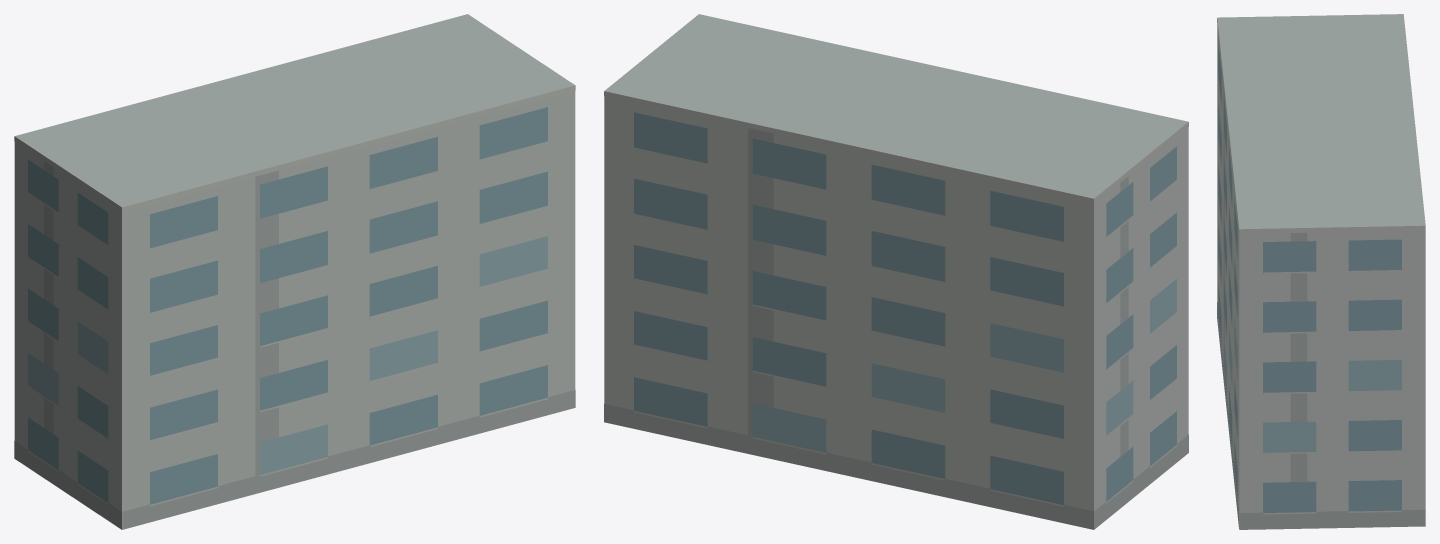
Rendered from residential-45cf6fe2-9da7-4da1-b6b3-7d7fd6285a9c.glb.
3 views of the same model, side by side, from view 1: azimuth 30°, elevation 25°; view 2: azimuth 150°, elevation 25°; view 3: azimuth 270°, elevation 25° (orthographic). The views are drawn at different scales.
Visible parts, largest first — view 1: residential-45cf6fe2-9da7-4da1-b6b3-7d7fd6285a9c.tmp; view 2: residential-45cf6fe2-9da7-4da1-b6b3-7d7fd6285a9c.tmp; view 3: residential-45cf6fe2-9da7-4da1-b6b3-7d7fd6285a9c.tmp.
Boxes of the visible parts, left/top/right/bottom form: residential-45cf6fe2-9da7-4da1-b6b3-7d7fd6285a9c.tmp: left=14, top=14, right=575, bottom=529; residential-45cf6fe2-9da7-4da1-b6b3-7d7fd6285a9c.tmp: left=604, top=14, right=1188, bottom=529; residential-45cf6fe2-9da7-4da1-b6b3-7d7fd6285a9c.tmp: left=1217, top=14, right=1425, bottom=529.
Bounding box in the file's own units: 23.42 × 15.25 × 9.6.
